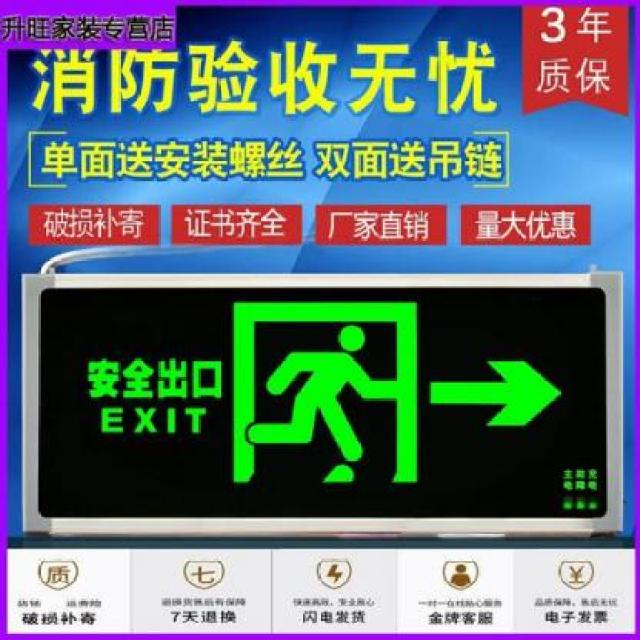exit_sign: (18, 269, 620, 537)
